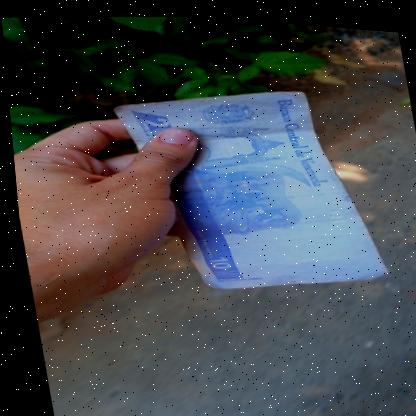vef_back: (107, 69, 391, 303)
